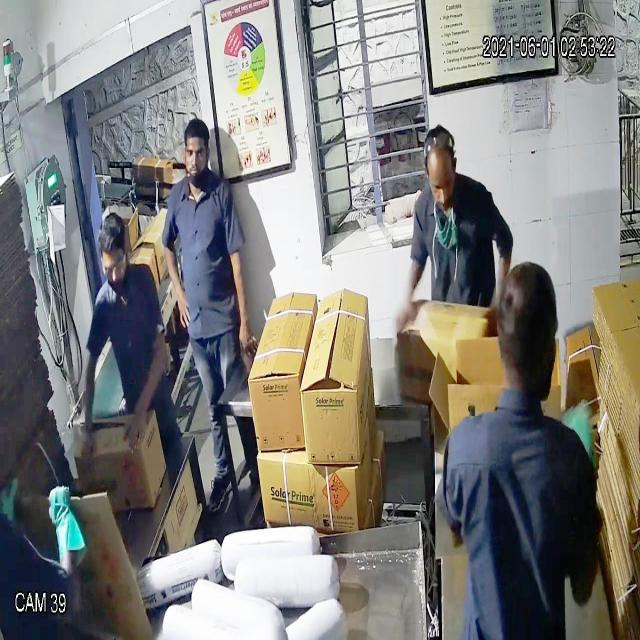glasses: (96, 249, 134, 289)
no-glass: (180, 132, 216, 176)
